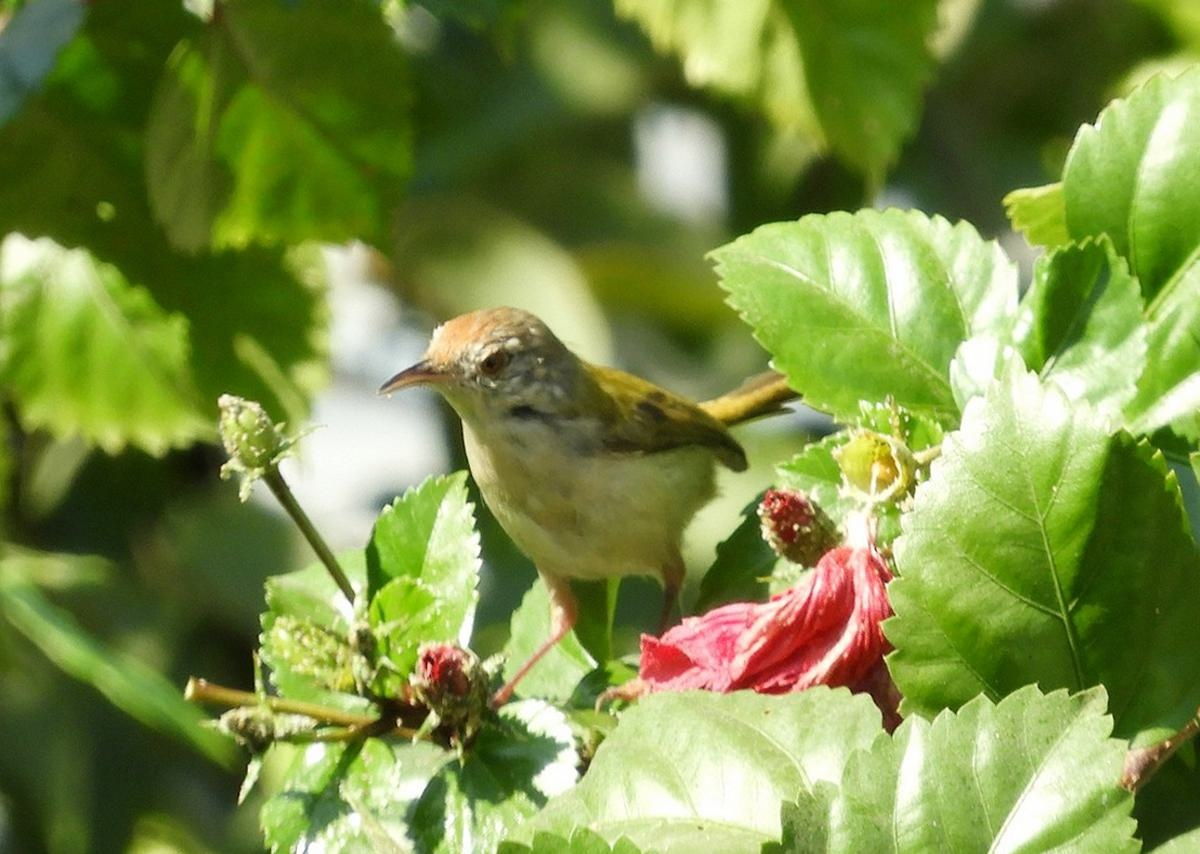tailorbird: (393, 291, 744, 621)
